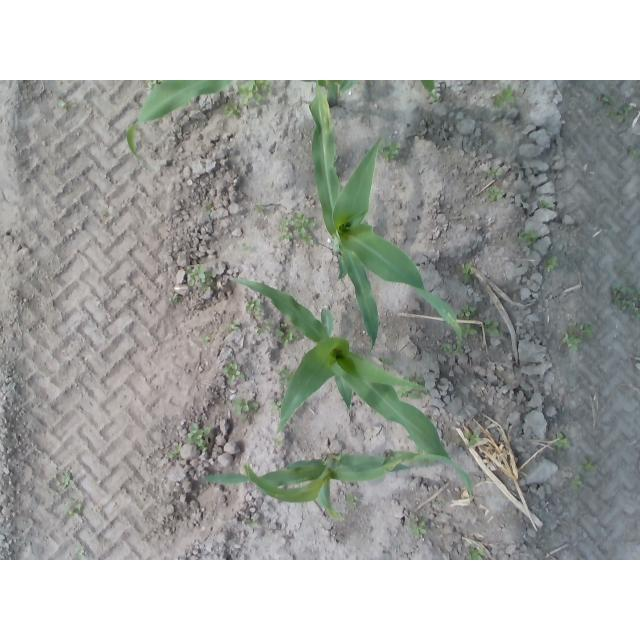Maize: (312, 82, 465, 358), (230, 276, 451, 459), (128, 80, 441, 162), (193, 452, 476, 517)
Weeds: (281, 212, 316, 243), (239, 81, 273, 107), (278, 317, 295, 347), (234, 397, 261, 415), (184, 266, 206, 286), (493, 86, 515, 106), (184, 423, 208, 441), (380, 145, 400, 164), (617, 105, 636, 124), (59, 470, 75, 492), (459, 261, 473, 285), (253, 318, 274, 334), (223, 361, 241, 379), (246, 297, 263, 316), (614, 282, 634, 298), (466, 427, 481, 446), (556, 432, 570, 452), (520, 228, 537, 244), (227, 100, 242, 118), (485, 316, 500, 332), (410, 523, 426, 538), (490, 186, 504, 202), (345, 492, 360, 506), (567, 334, 582, 348), (539, 200, 558, 211), (279, 367, 290, 386), (621, 298, 637, 311), (464, 325, 478, 339), (462, 304, 477, 317), (470, 548, 486, 560), (571, 475, 584, 489), (580, 323, 593, 337), (490, 167, 504, 178), (203, 199, 214, 213), (546, 256, 558, 268), (600, 95, 612, 106), (584, 461, 596, 472), (172, 448, 181, 462), (272, 401, 281, 415), (231, 321, 242, 331), (630, 149, 640, 160), (605, 107, 615, 118), (70, 506, 82, 515), (254, 205, 266, 214), (202, 332, 210, 345), (271, 438, 282, 447), (59, 100, 69, 108), (101, 208, 110, 216), (413, 514, 421, 523)
